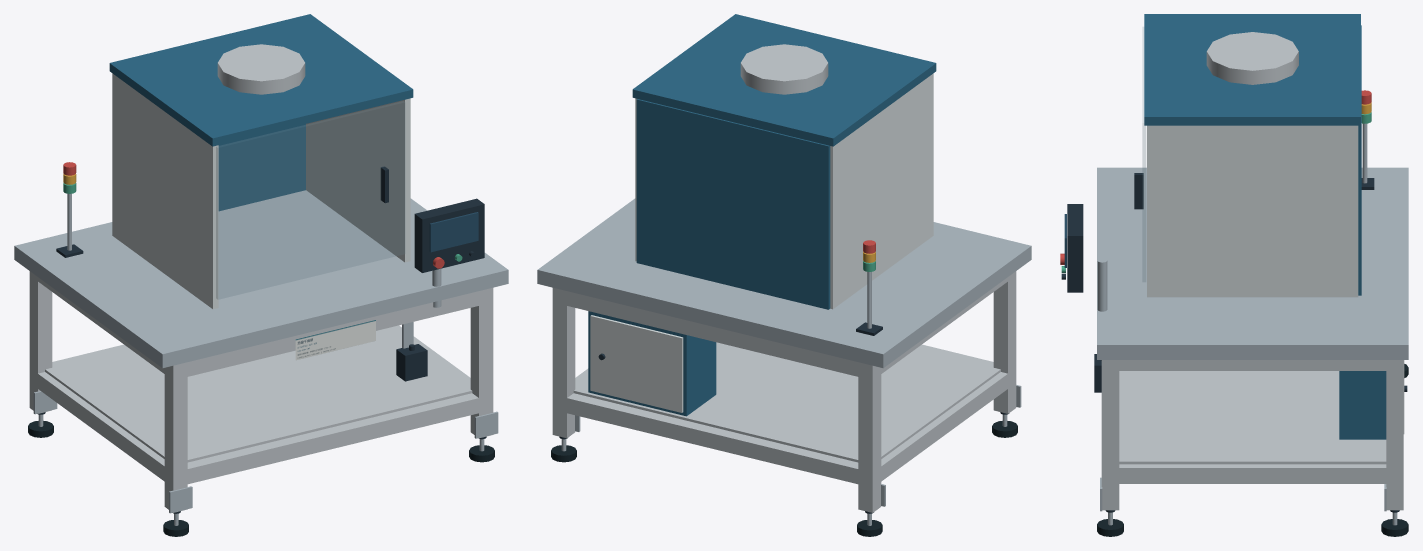
File: tray-dryer-cell.glb
The picture shows the model from 3 angles, left to right: view 1: azimuth 30°, elevation 25°; view 2: azimuth 150°, elevation 25°; view 3: azimuth 270°, elevation 25°; orthographic projection. The views are drawn at different scales.
Visible parts, largest first — view 1: ClosedMachineBed_28, GuardDoor_52, LowerShelf_29, ChamberRoof_51, ChamberSide_49, ChamberSide_50, SlottedExtrusion_22, ChamberBack_48, FanHousing_63, SlottedExtrusion_23, SlottedExtrusion_8, SlottedExtrusion_24 (+7 smaller); view 2: ChamberBack_48, ClosedMachineBed_28, LowerShelf_29, ChamberRoof_51, ChamberSide_49, BackDoor_31, SlottedExtrusion_20, SlottedExtrusion_21, FanHousing_63, SlottedExtrusion_3, Cabinet_30, SlottedExtrusion_13 (+3 smaller); view 3: ChamberSide_50, ClosedMachineBed_28, LowerShelf_29, ChamberRoof_51, SlottedExtrusion_26, FanHousing_63, Cabinet_30, SlottedExtrusion_27, SlottedExtrusion_18, SlottedExtrusion_13, ConsoleBack_34, GuardDoor_52 (+3 smaller).
Part boxes in pixels (<box>): ClosedMachineBed_28: <box>14,190,508,368</box>; GuardDoor_52: <box>216,101,405,299</box>; LowerShelf_29: <box>45,326,472,462</box>; ChamberRoof_51: <box>109,14,413,146</box>; ChamberSide_49: <box>112,73,218,309</box>; ChamberSide_50: <box>306,98,410,262</box>; SlottedExtrusion_22: <box>180,393,478,485</box>; ChamberBack_48: <box>218,124,305,211</box>; FanHousing_63: <box>217,44,305,94</box>; SlottedExtrusion_23: <box>180,291,478,378</box>; SlottedExtrusion_8: <box>164,362,187,512</box>; SlottedExtrusion_24: <box>37,372,168,484</box>; ChamberBack_48: <box>636,99,830,309</box>; ClosedMachineBed_28: <box>537,198,1031,368</box>; LowerShelf_29: <box>573,342,1000,462</box>; ChamberRoof_51: <box>632,14,936,146</box>; ChamberSide_49: <box>830,73,933,309</box>; BackDoor_31: <box>590,315,683,412</box>; SlottedExtrusion_20: <box>567,393,865,485</box>; SlottedExtrusion_21: <box>559,291,865,378</box>; FanHousing_63: <box>740,44,828,94</box>; SlottedExtrusion_3: <box>858,362,881,512</box>; Cabinet_30: <box>588,311,716,416</box>; SlottedExtrusion_13: <box>552,287,575,438</box>; ChamberSide_50: <box>1147,125,1358,297</box>; ClosedMachineBed_28: <box>1097,167,1408,359</box>; LowerShelf_29: <box>1119,371,1386,464</box>; ChamberRoof_51: <box>1144,14,1360,125</box>; SlottedExtrusion_26: <box>1115,464,1386,483</box>; FanHousing_63: <box>1206,32,1298,84</box>; Cabinet_30: <box>1339,371,1386,439</box>; SlottedExtrusion_27: <box>1110,360,1394,370</box>; SlottedExtrusion_18: <box>1101,360,1119,510</box>; SlottedExtrusion_13: <box>1386,360,1403,510</box>; ConsoleBack_34: <box>1067,204,1083,292</box>; GuardDoor_52: <box>1142,27,1145,281</box>.
Size of the model in its own units: 1.55 by 1.64 by 1.29.
Materials: 12 (1 with a texture image).
